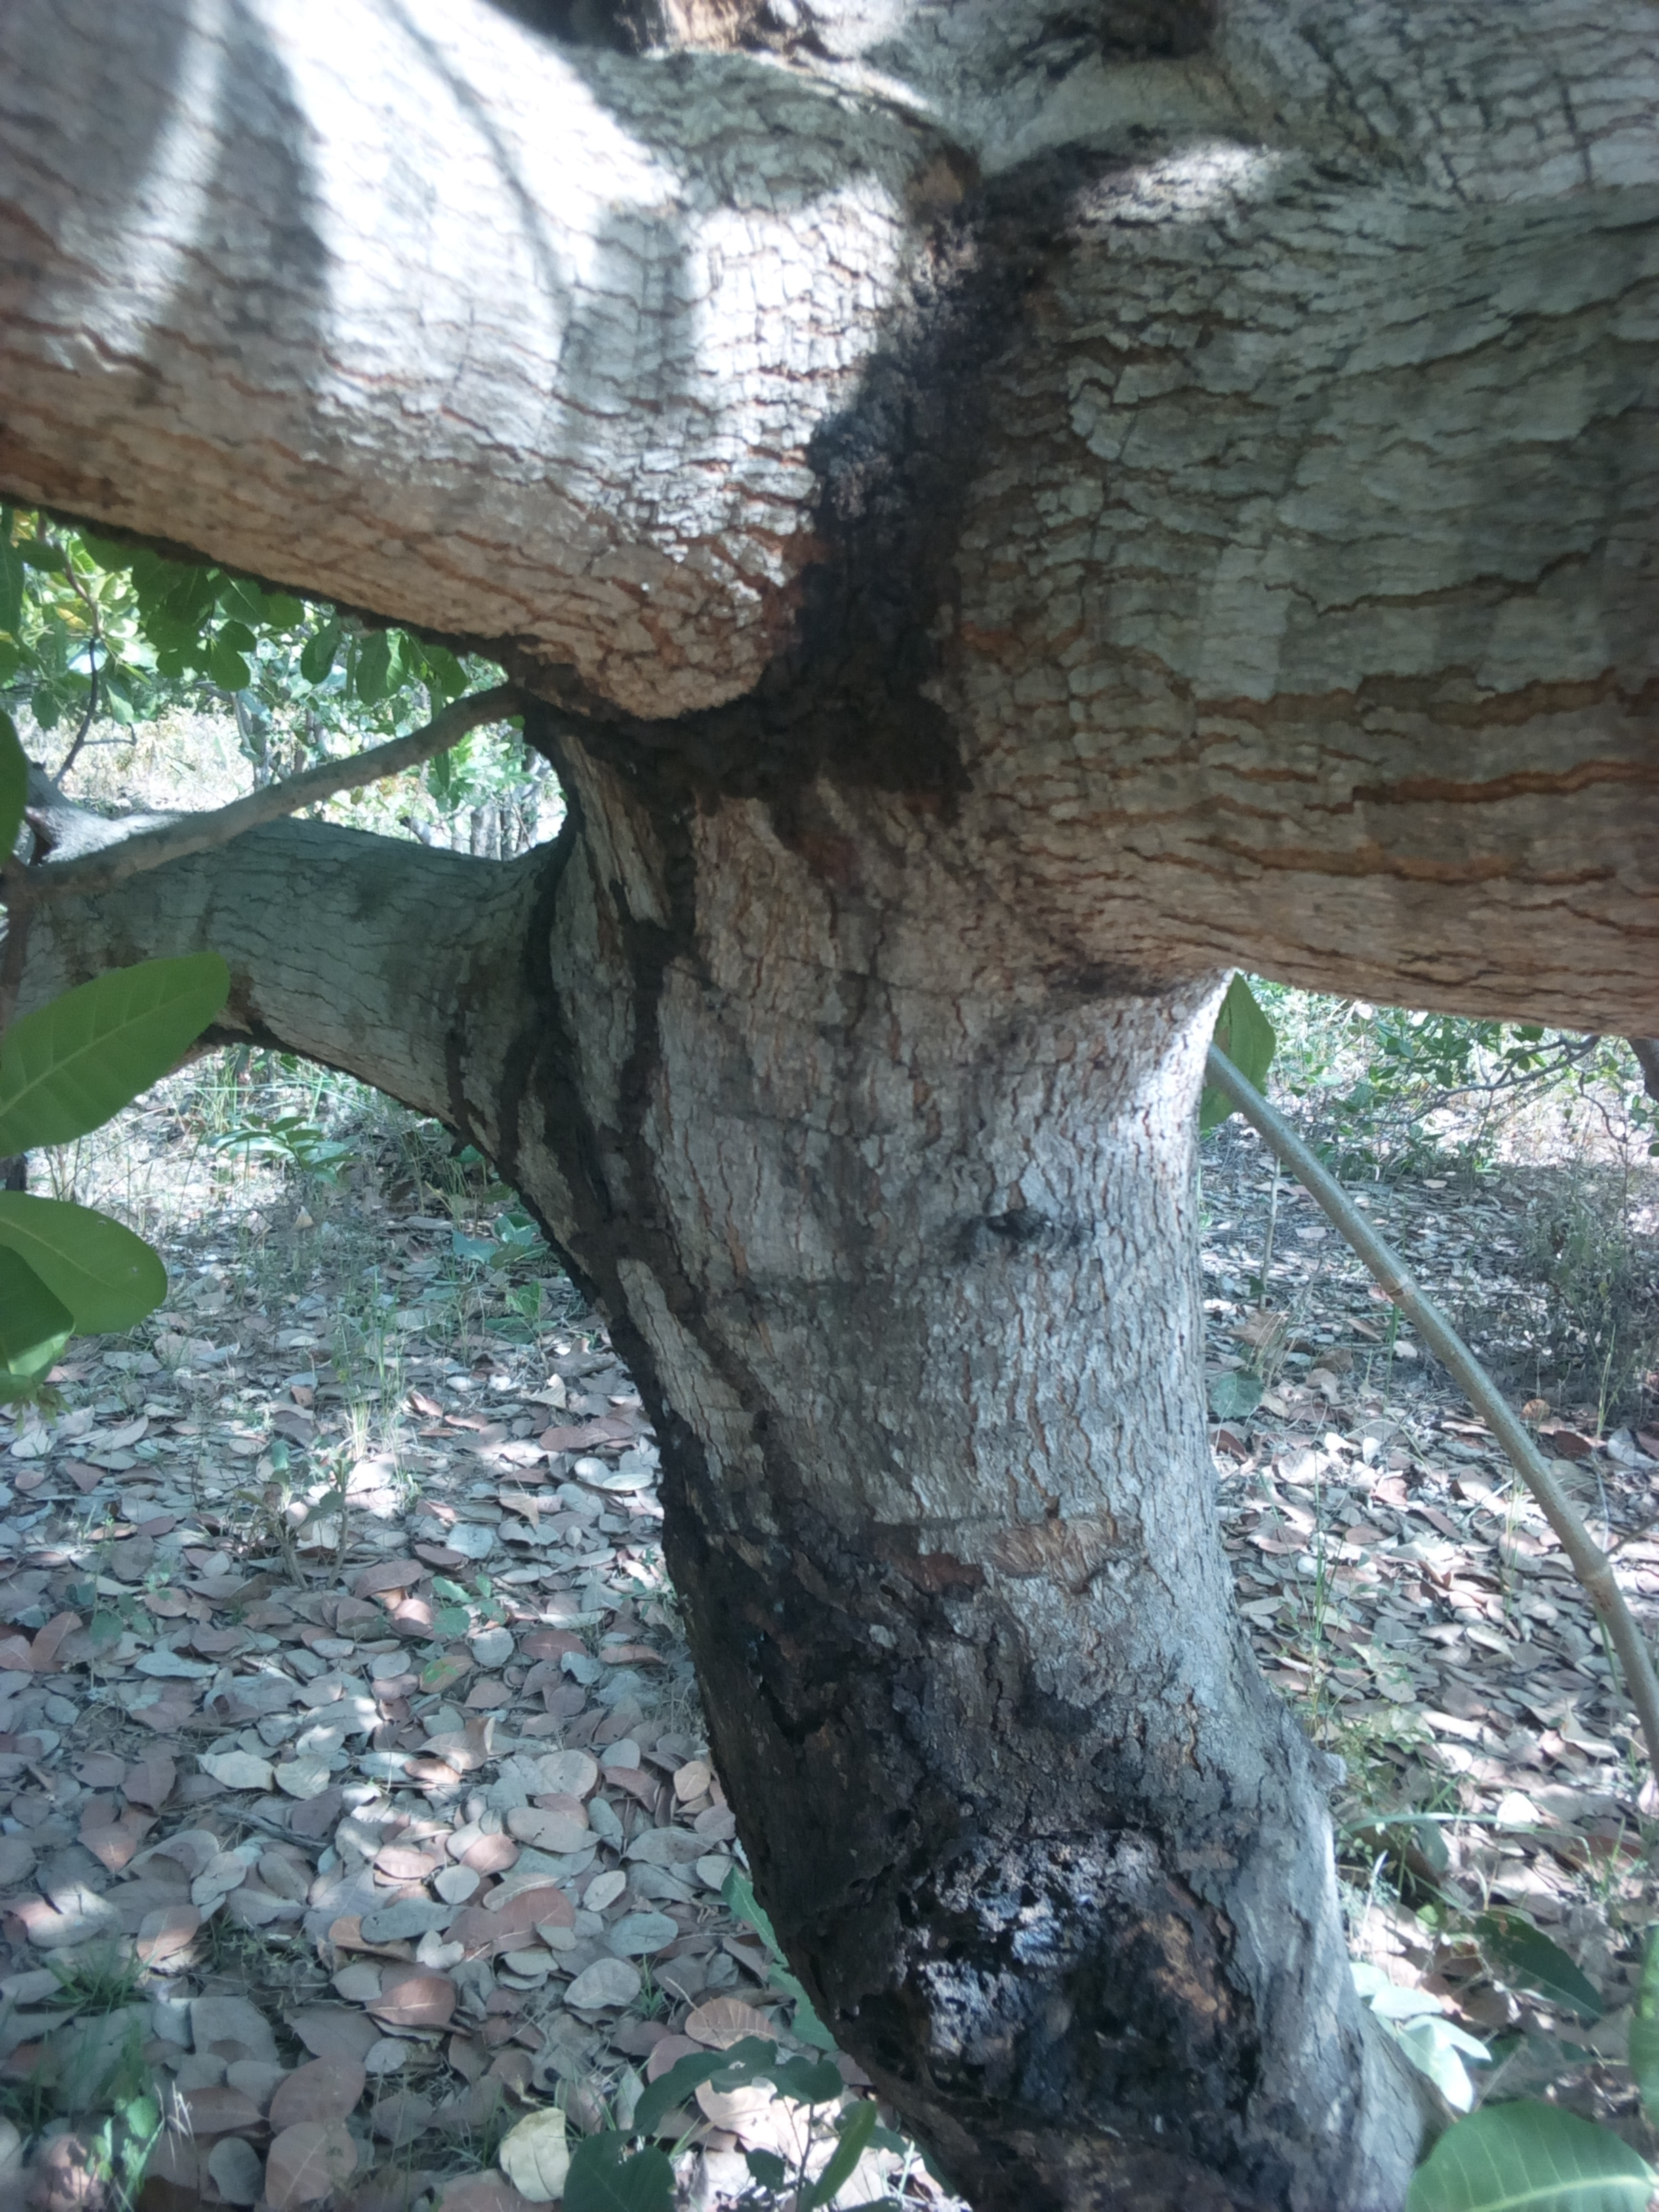Termites: (528, 895, 793, 1500)
